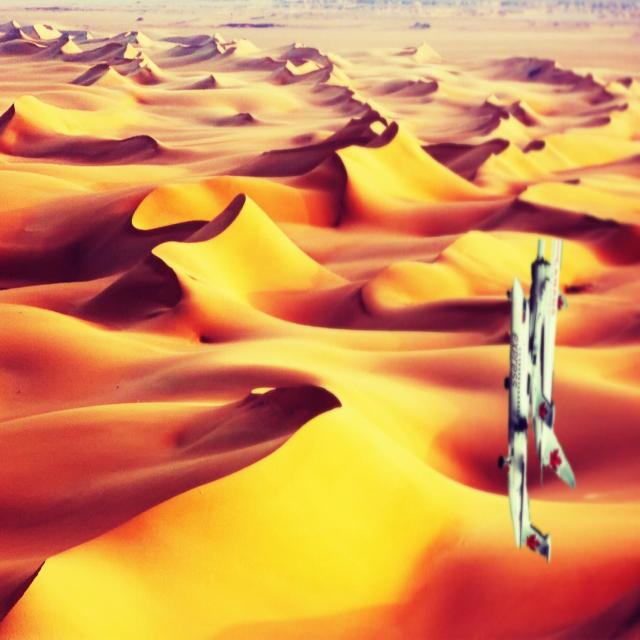airplane: (497, 235, 576, 564)
